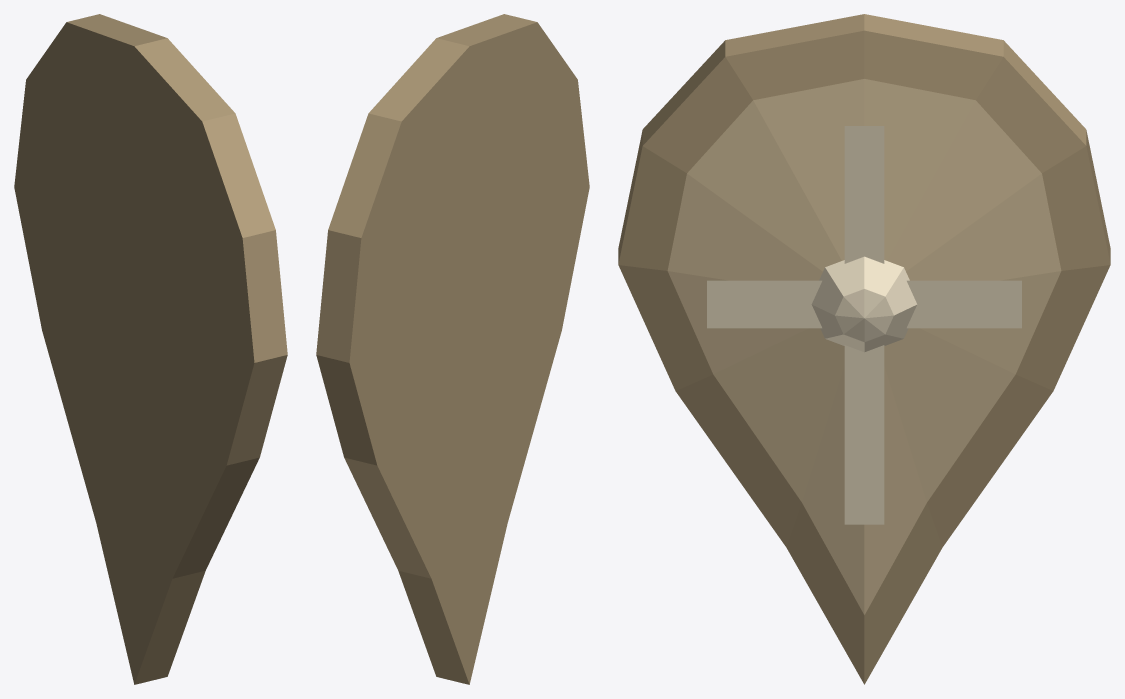
Rendered from gear_kiteshield_v1.glb.
3 views of the same model, side by side, from view 1: azimuth 30°, elevation 25°; view 2: azimuth 150°, elevation 25°; view 3: azimuth 270°, elevation 25° (orthographic). The views are drawn at different scales.
Visible parts, largest first — view 1: gear_kiteshield; view 2: gear_kiteshield; view 3: gear_kiteshield.
Boxes of the visible parts, left/top/right/bottom form: gear_kiteshield: left=14, top=14, right=287, bottom=684; gear_kiteshield: left=316, top=14, right=589, bottom=684; gear_kiteshield: left=618, top=14, right=1110, bottom=684.
Size of the model in its own units: 0.175 by 1.1 by 0.75.
